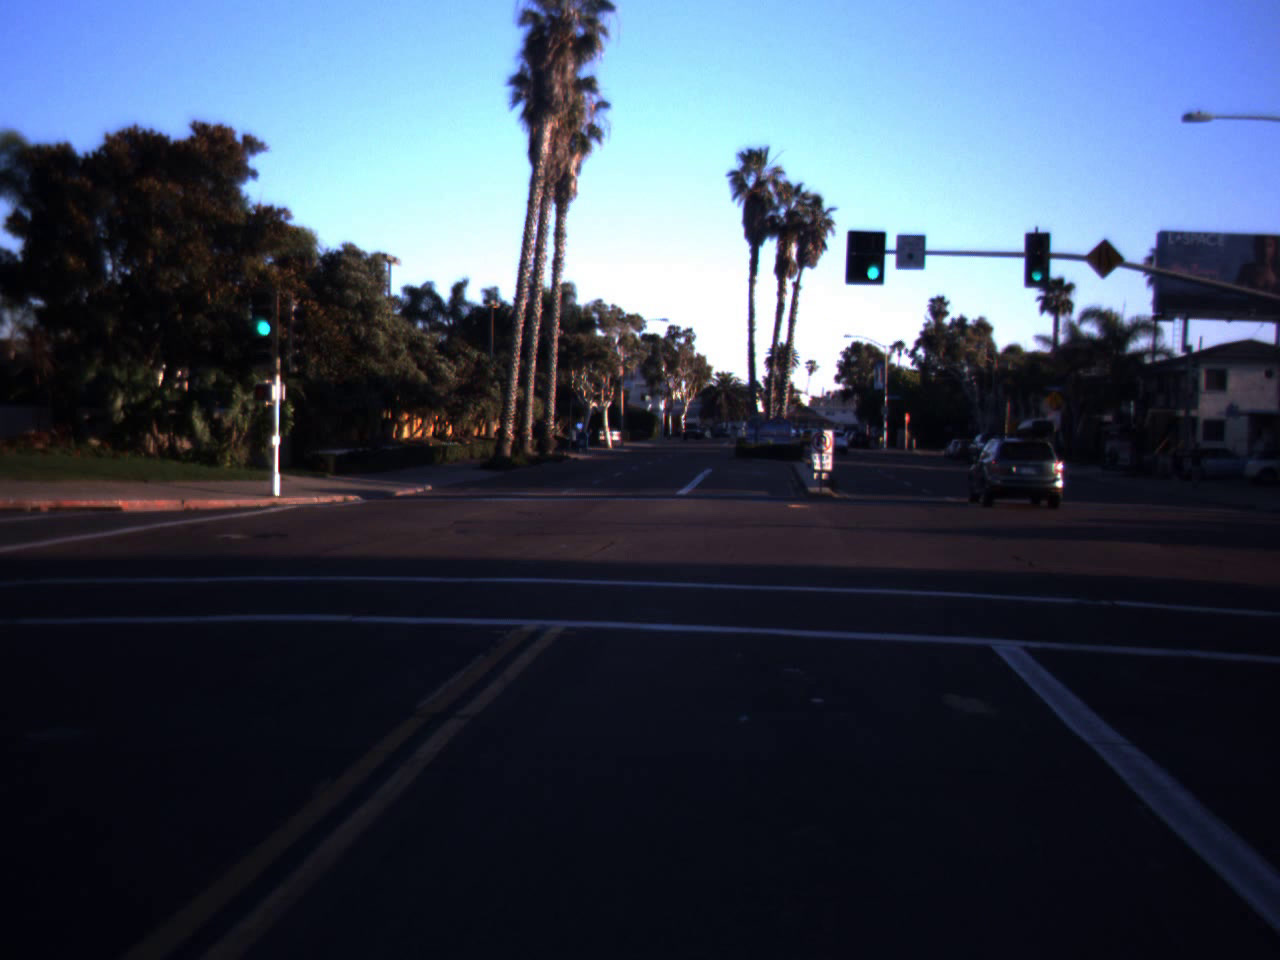go: (246, 280, 282, 340), (858, 233, 888, 283), (1028, 257, 1046, 282)
